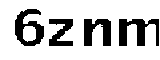6: (10, 5, 45, 50)
m: (116, 13, 160, 48)
n: (81, 11, 113, 50)
z: (46, 15, 77, 50)
